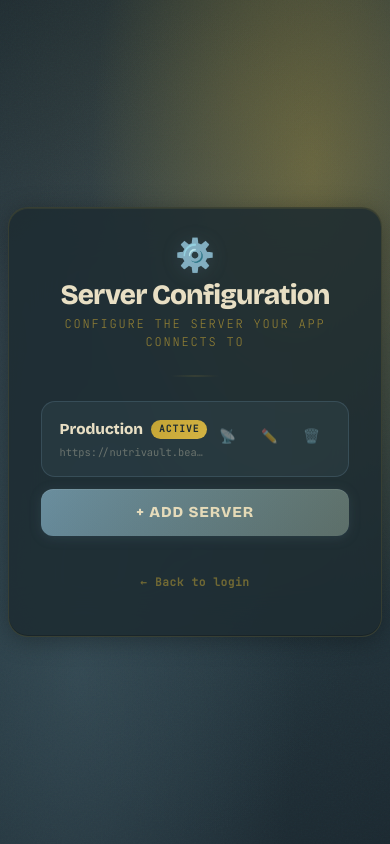
Test: ServerConfigScreen › opens add form when Add Server is clicked
The image size is (390, 844).
Step 1. Click the button "+ Add Server" → (195, 513), box [41,489,349,536]
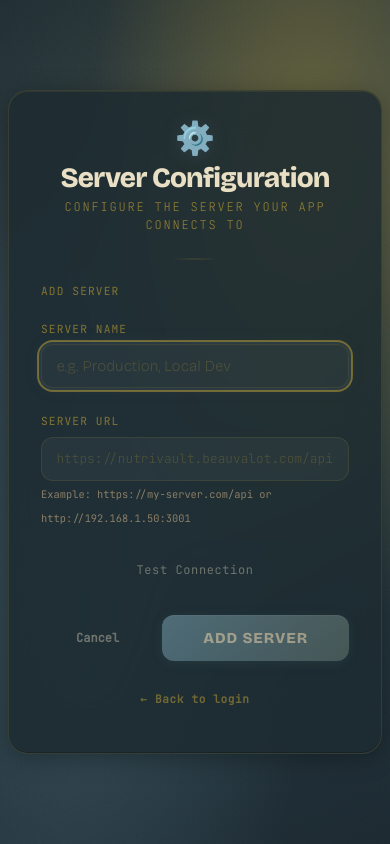
Result: the button "Test Connection" is shown at [41,549,349,591]
